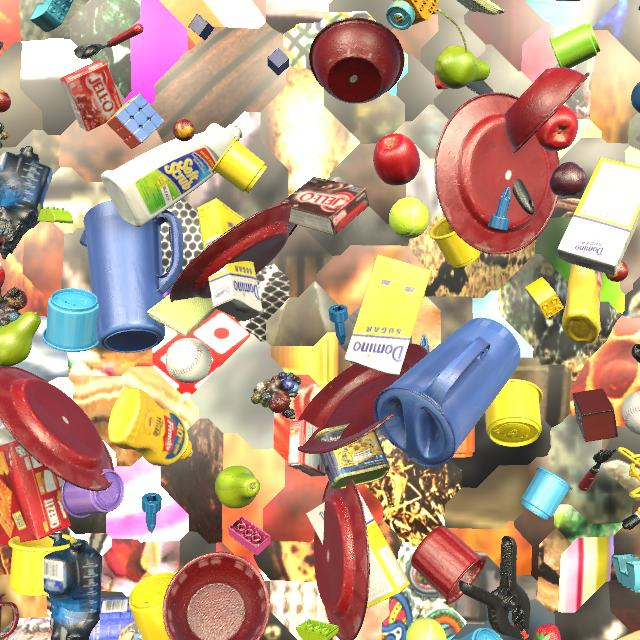ycb_002_master_chef_can: (89, 596, 148, 640)
ycb_003_cracker_box: (0, 440, 71, 546)
ycb_004_sugar_box: (306, 489, 410, 608), (344, 255, 431, 376), (557, 157, 640, 276), (197, 198, 263, 321)
ycb_006_mustard_bottle: (108, 388, 193, 466), (562, 264, 603, 343)
ycb_008_pudding_box: (280, 177, 369, 235)
ycb_009_gelatin_box: (60, 60, 123, 132), (287, 420, 326, 477)
ycb_010_potted_meat_can: (315, 424, 390, 489)
ycb_012_strawberry: (534, 624, 561, 640)
ycb_013_apple: (373, 133, 420, 186), (535, 105, 578, 151)
ycb_016_pear: (435, 45, 490, 89), (0, 311, 41, 367), (215, 465, 260, 509)
ycb_018_plum: (549, 162, 587, 196)
